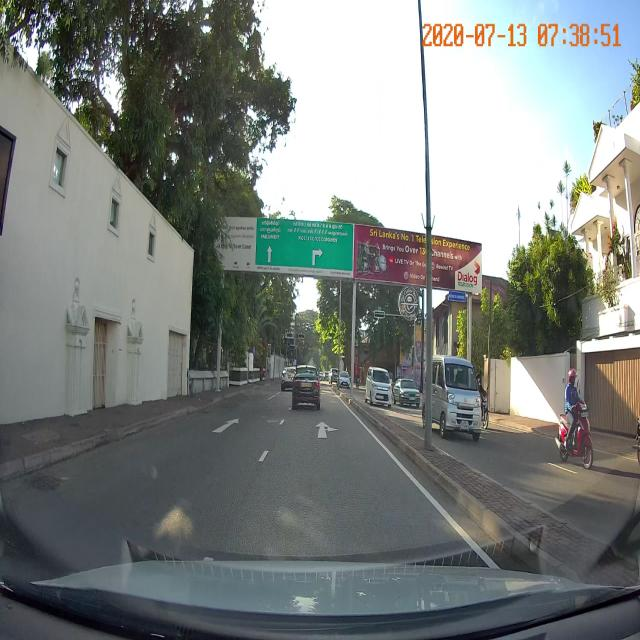forward_right: (265, 414, 385, 449), (262, 422, 386, 449)
